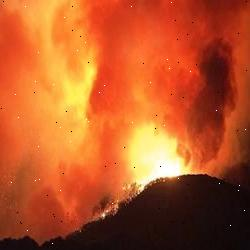fire: (90, 126, 176, 216)
